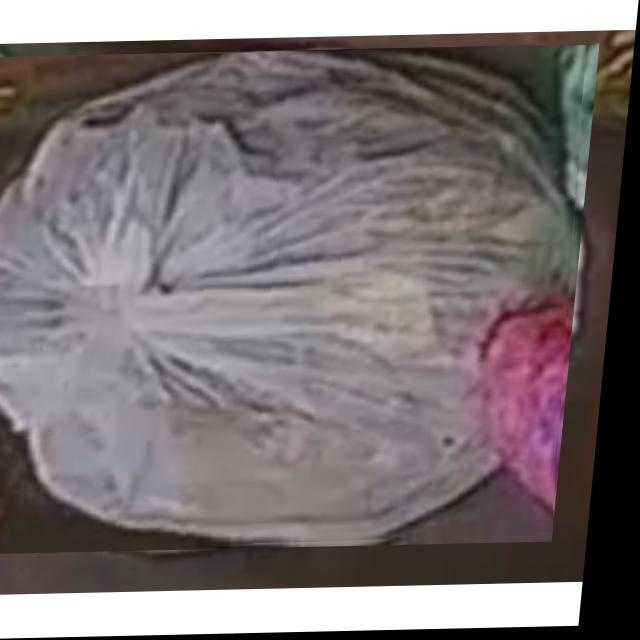other_trashbag: (0, 52, 579, 543)
